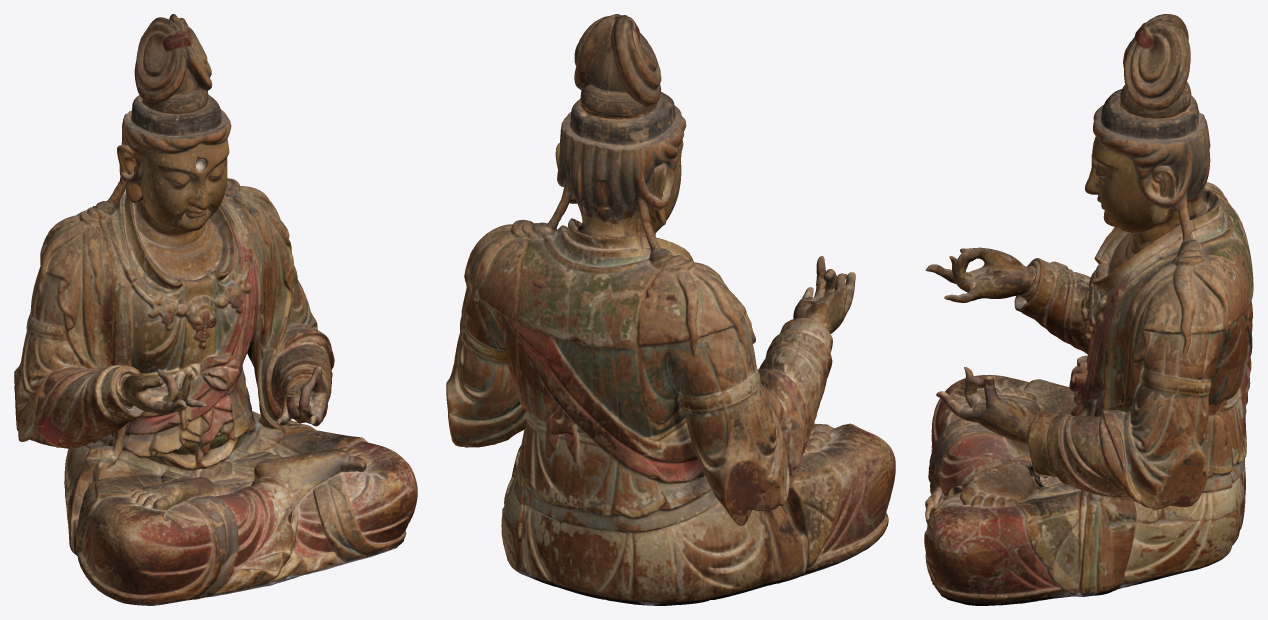
File: seated_bodhisattva_guanyin_12th_c._ce.glb
The picture shows the model from 3 angles, left to right: view 1: azimuth 30°, elevation 25°; view 2: azimuth 150°, elevation 25°; view 3: azimuth 270°, elevation 25°; orthographic projection. The views are drawn at different scales.
Visible parts, largest first — view 1: Object_3, Object_2; view 2: Object_2, Object_3; view 3: Object_2, Object_3.
Boxes of the visible parts, <box> form: Object_3: <box>27,27,417,605</box>; Object_2: <box>14,14,412,578</box>; Object_2: <box>446,14,888,605</box>; Object_3: <box>512,40,895,585</box>; Object_2: <box>949,14,1253,596</box>; Object_3: <box>924,24,1147,605</box>.
Size of the model in its own units: 1.14 by 1.77 by 1.02.
1 material, 1 textured.
